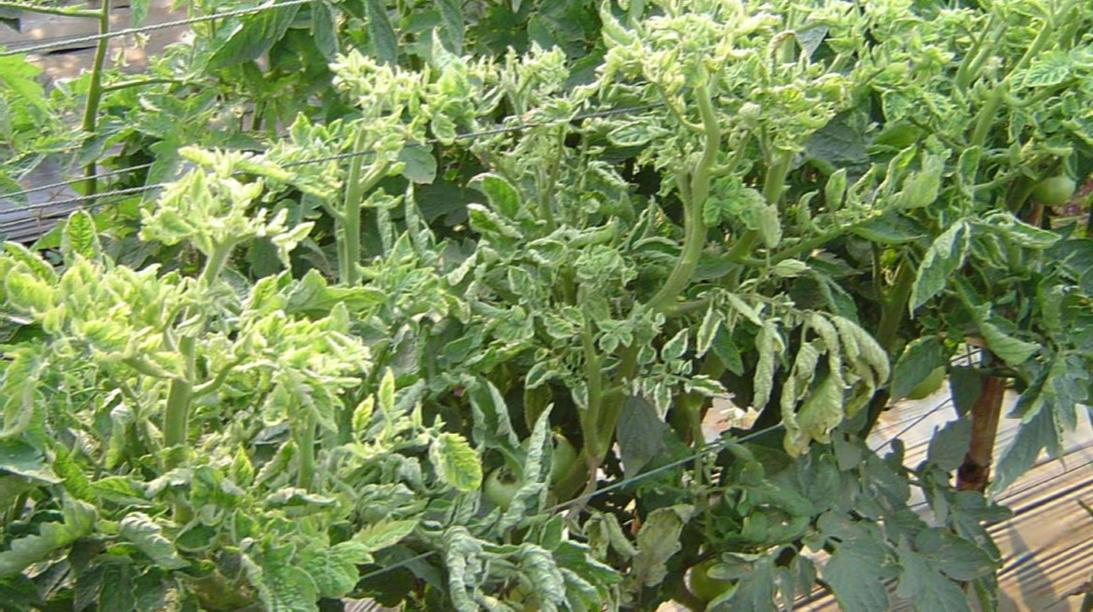Tomato leaf yellow virus: (692, 163, 789, 243), (236, 543, 329, 612), (906, 222, 972, 314), (430, 428, 484, 489), (292, 324, 336, 391), (474, 175, 530, 226), (12, 262, 58, 321), (85, 269, 118, 348), (660, 326, 700, 391), (520, 236, 578, 270), (232, 315, 267, 365), (1045, 114, 1093, 149), (533, 310, 578, 347), (523, 362, 557, 393), (571, 364, 586, 429), (597, 328, 619, 360), (631, 341, 650, 377), (161, 288, 183, 315)
